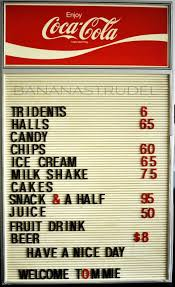coke: (34, 7, 143, 56)
